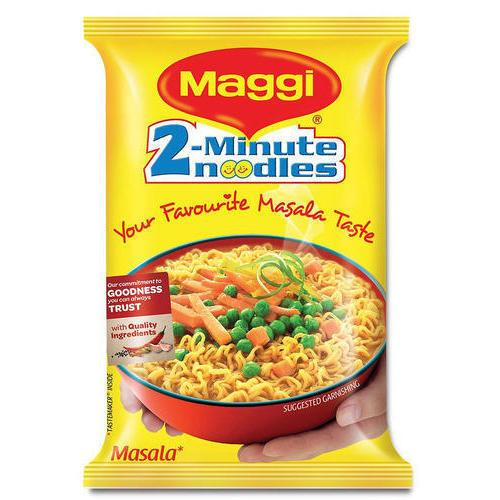Maggi: (80, 14, 419, 491)
